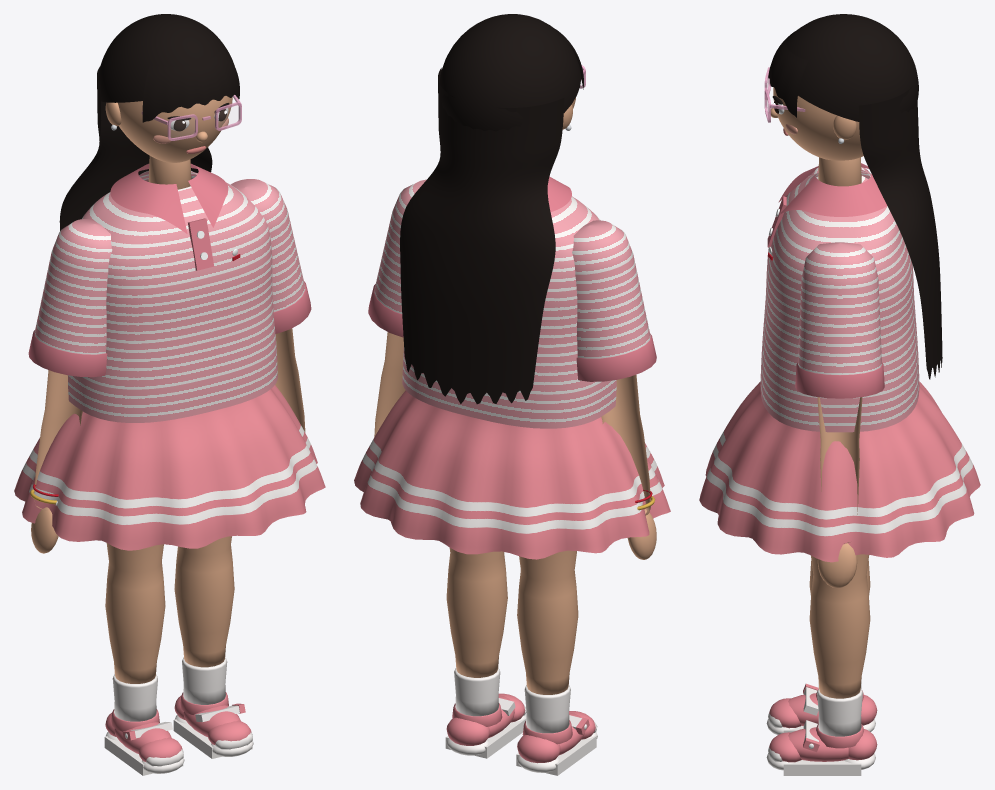
The model's file is char_baochau.glb.
The picture shows the model from 3 angles, left to right: view 1: azimuth 30°, elevation 25°; view 2: azimuth 150°, elevation 25°; view 3: azimuth 270°, elevation 25°; orthographic projection. The views are drawn at different scales.
Visible parts, largest first — view 1: Body, Head_Geo, Arm_R, Leg_R, Leg_L, Arm_L; view 2: Head_Geo, Body, Arm_R, Leg_R, Leg_L, Arm_L; view 3: Body, Head_Geo, Arm_L, Leg_L, Leg_R.
Part boxes in pixels (left/top/right/bottom): Body: left=14, top=156, right=325, bottom=550; Head_Geo: left=59, top=14, right=241, bottom=230; Arm_R: left=28, top=219, right=112, bottom=553; Leg_R: left=104, top=543, right=184, bottom=775; Leg_L: left=173, top=536, right=253, bottom=758; Arm_L: left=230, top=179, right=311, bottom=432; Head_Geo: left=400, top=14, right=585, bottom=404; Body: left=354, top=176, right=670, bottom=559; Arm_R: left=572, top=220, right=656, bottom=559; Leg_R: left=516, top=550, right=597, bottom=775; Leg_L: left=445, top=548, right=526, bottom=758; Arm_L: left=368, top=179, right=426, bottom=436; Body: left=699, top=157, right=980, bottom=562; Head_Geo: left=764, top=14, right=942, bottom=379; Arm_L: left=795, top=242, right=884, bottom=587; Leg_L: left=766, top=554, right=877, bottom=775; Leg_R: left=766, top=561, right=877, bottom=734.
Size of the model in its own units: 0.5234 by 1.29 by 0.4528.
Materials: 19 (2 with a texture image).
